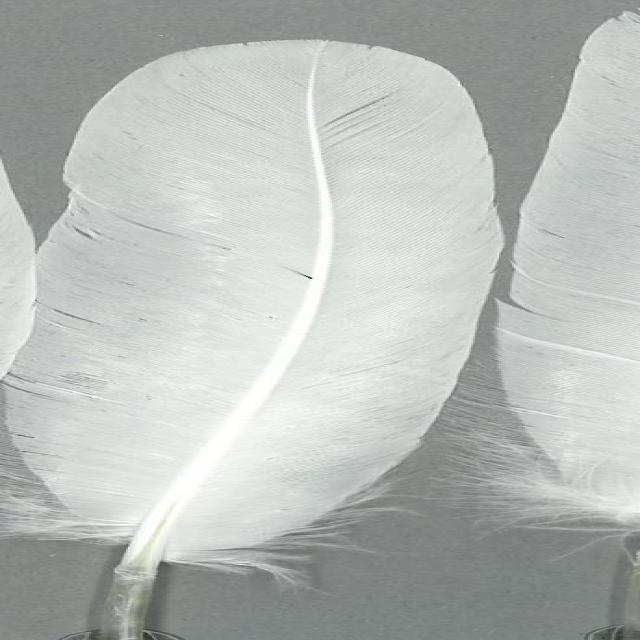feather: (18, 37, 505, 640), (482, 10, 640, 640)
